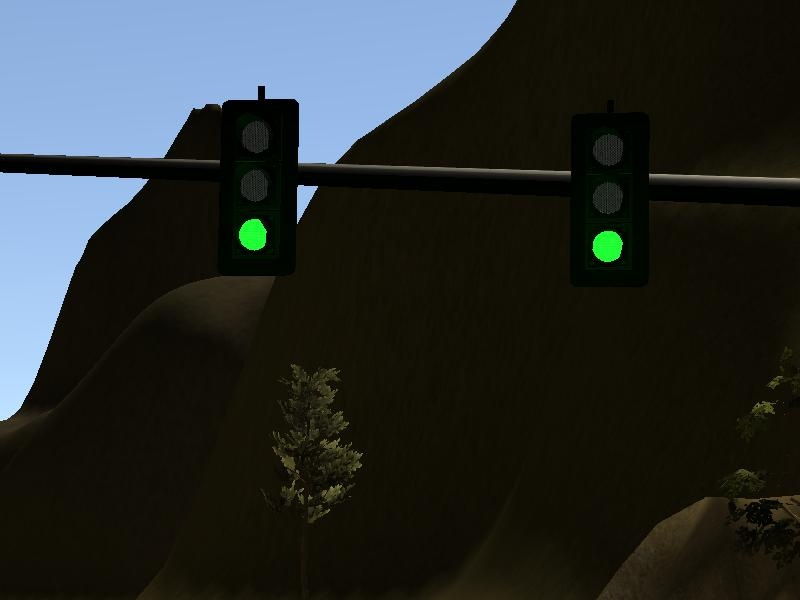GREEN: (217, 97, 301, 267), (567, 115, 649, 289)
